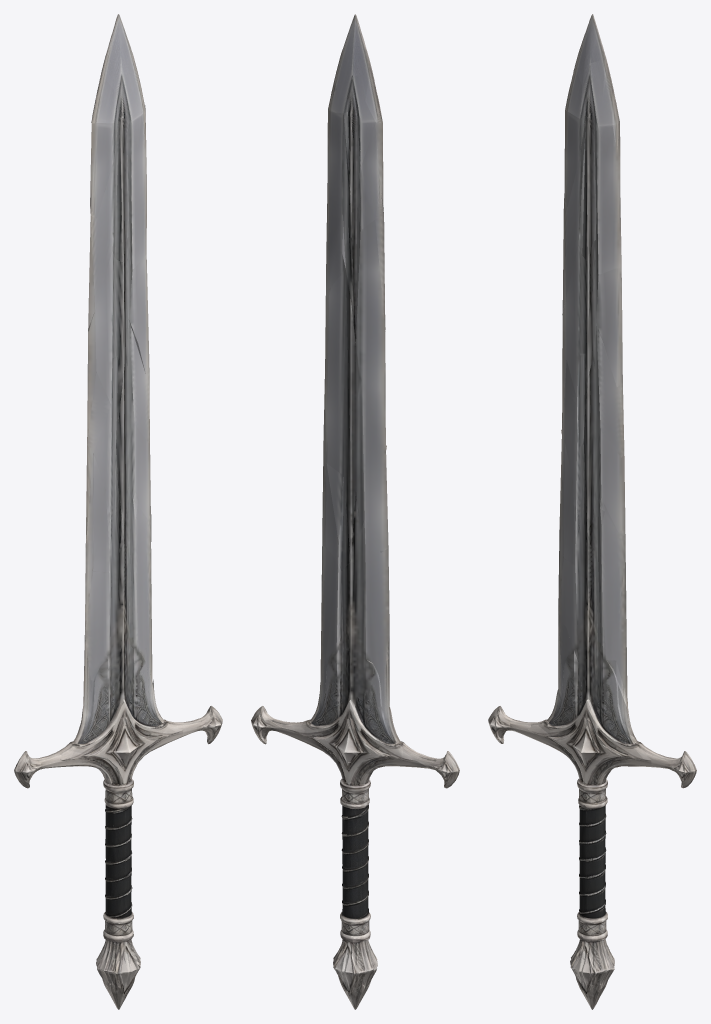
The model's file is GRS057_Remesh_10k.fbx.
The picture shows the model from 3 angles, left to right: view 1: azimuth 30°, elevation 25°; view 2: azimuth 150°, elevation 25°; view 3: azimuth 330°, elevation 25°; orthographic projection.
Visible parts, largest first — view 1: output_unwrapped; view 2: output_unwrapped; view 3: output_unwrapped.
Part boxes in pixels (x1,y1,x2,y2): output_unwrapped: (14,14,222,1009); output_unwrapped: (251,14,459,1009); output_unwrapped: (488,14,696,1009).
Bounding box in the file's own units: 41.74 × 191 × 8.14.
Materials: 1 (1 with a texture image).
